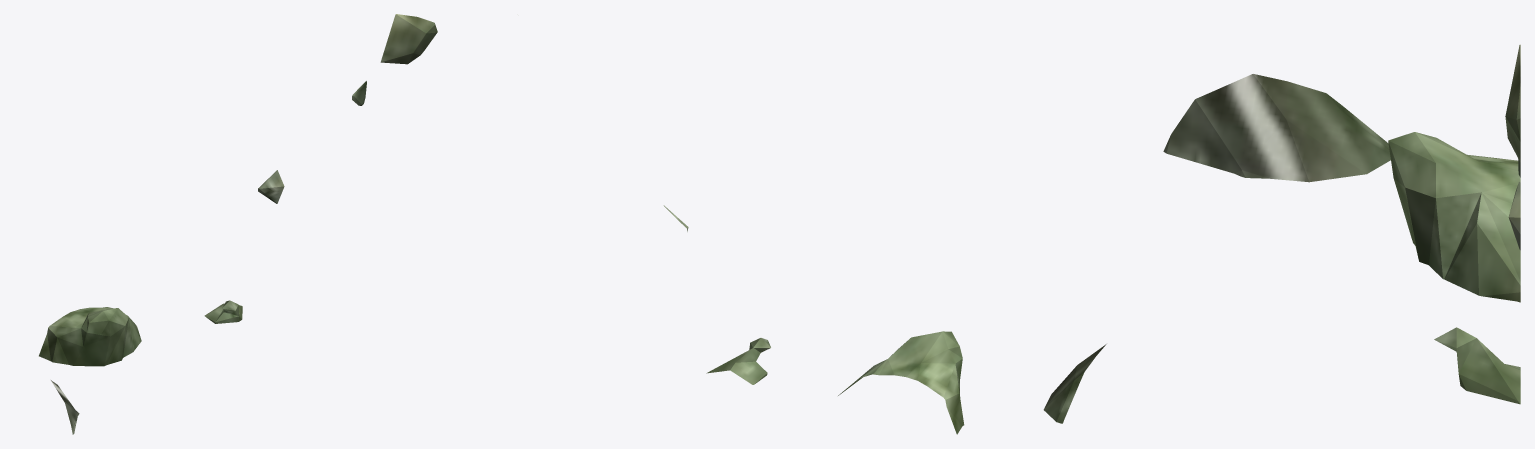
3 renders of one model, left to right at view 1: azimuth 30°, elevation 25°; view 2: azimuth 150°, elevation 25°; view 3: azimuth 270°, elevation 25°, orthographic. The views are drawn at different scales.
Size of the model in its own units: 3.89 by 2.09 by 1.33.
1 material, 1 textured.
